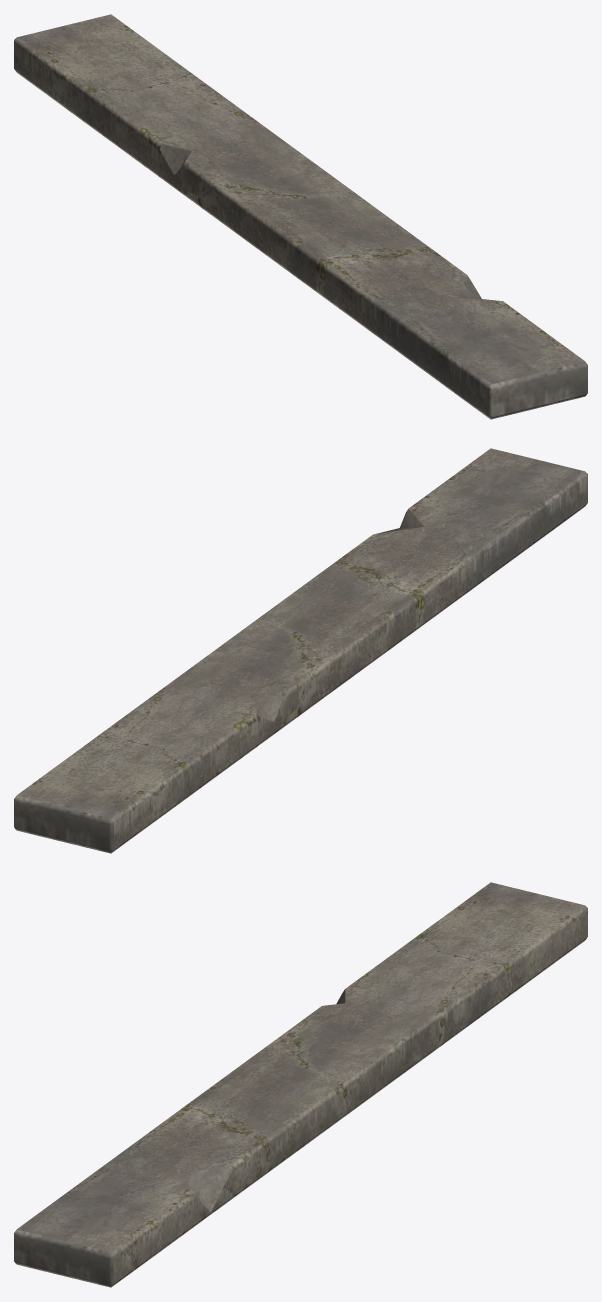
File: kerb_125x300.glb
The picture shows the model from 3 angles, top to bottom: view 1: azimuth 30°, elevation 25°; view 2: azimuth 150°, elevation 25°; view 3: azimuth 330°, elevation 25°; orthographic projection.
Parts seen in each view (by area): view 1: kerb_125x300; view 2: kerb_125x300; view 3: kerb_125x300.
Part boxes in pixels (x1=…): kerb_125x300: x1=14, y1=14, x2=587, y2=419; kerb_125x300: x1=14, y1=448, x2=587, y2=853; kerb_125x300: x1=14, y1=882, x2=587, y2=1287.
Bounding box in the file's own units: 0.3762 × 0.1268 × 3.12.
Materials: 1 (1 with a texture image).
